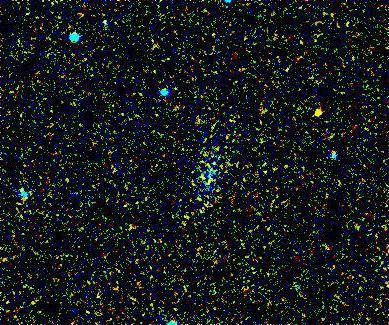star: (303, 98, 333, 128)
